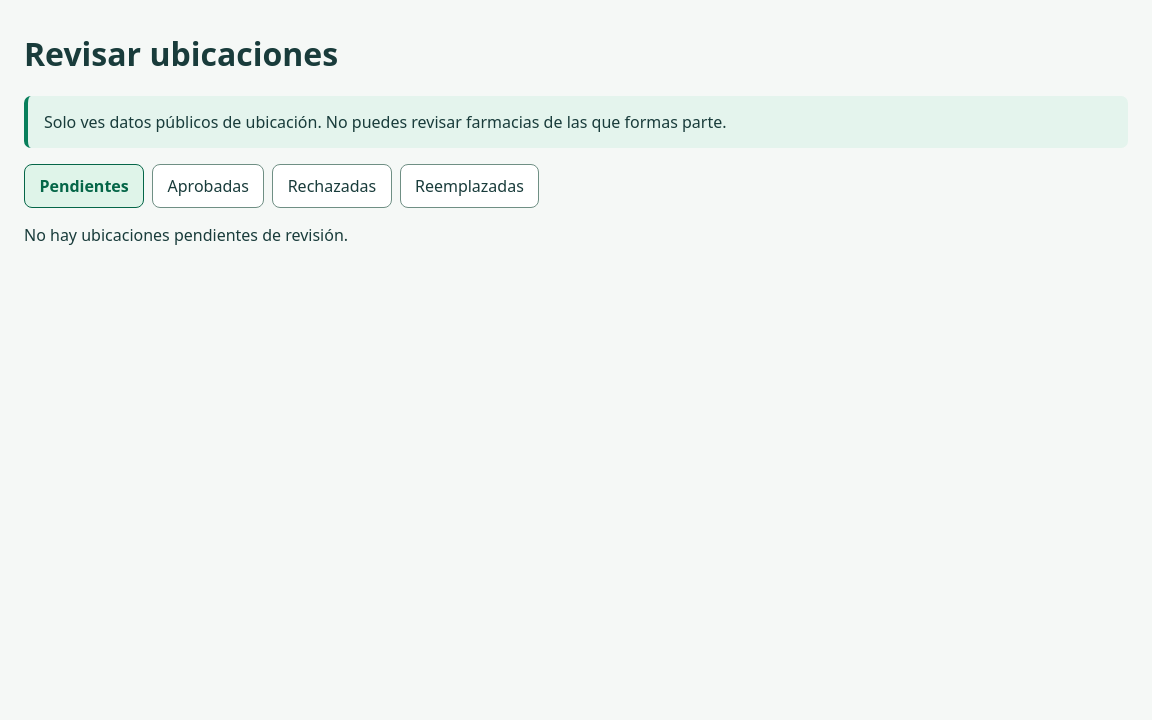
it: F07.1 · «Revisar ubicaciones» con historial (FR-017, FR-018) › filtro «Aprobadas»: muestra los campos aprobados y pagina
Expected: the text "No hay ubicaciones pendientes de revisión." is shown, 24,224 -> 348,246
Click the button "Aprobadas": (208, 186) 152,164 -> 264,208
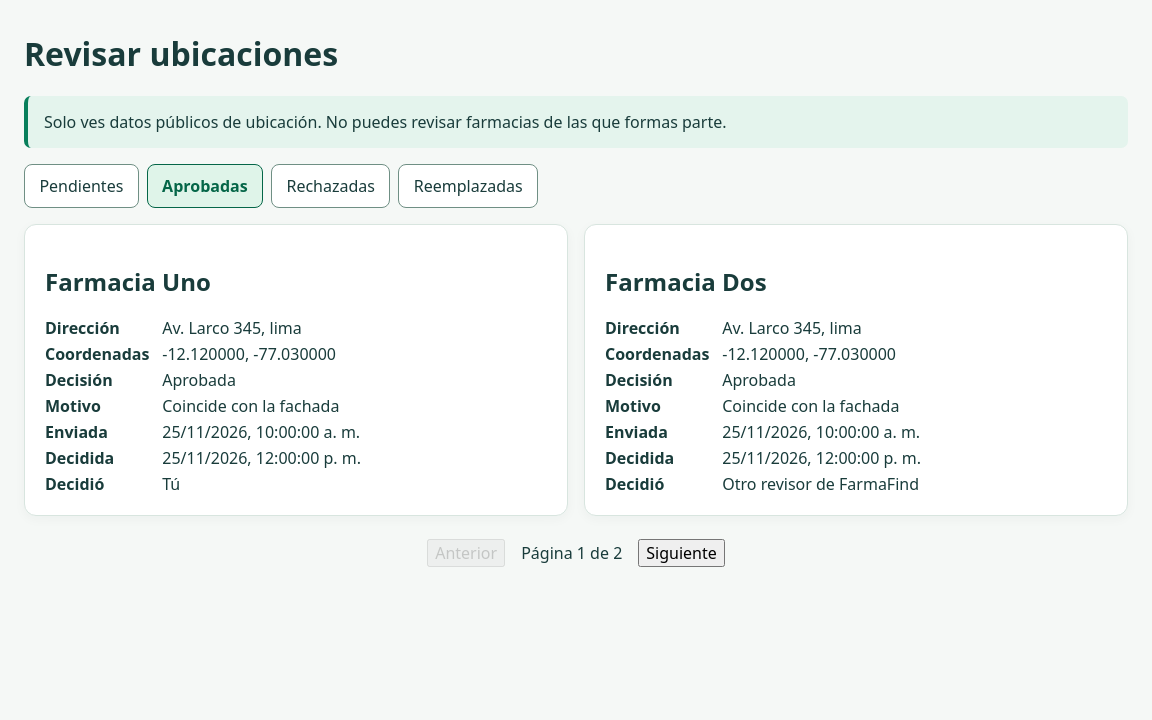
Result: the text "Av. Larco 345, lima" below "Farmacia Uno" is shown at 162,317 -> 302,339
Result: the text "-12.120000, -77.030000" below "Farmacia Uno" is shown at 162,343 -> 336,365
Result: the text "Aprobada" below "Farmacia Uno" is shown at 162,369 -> 236,391
Click the button "Siguiente": (682, 553) 638,539 -> 725,567
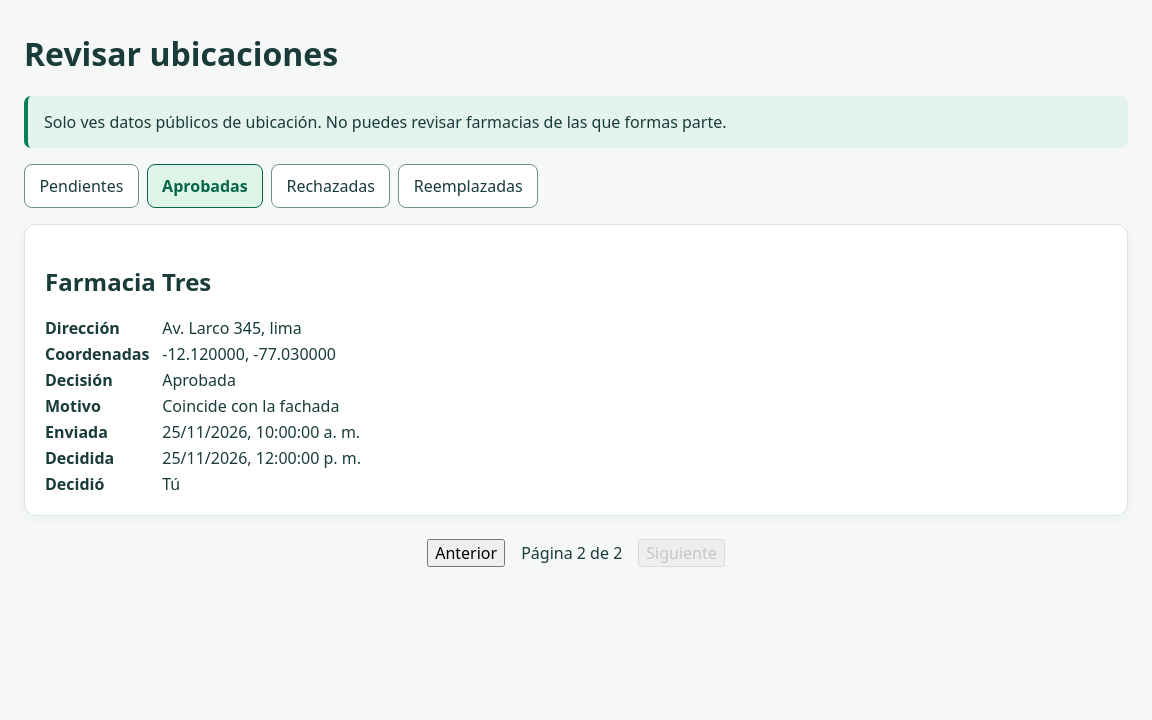
Result: the heading "Farmacia Tres" is shown at 45,264 -> 211,298
